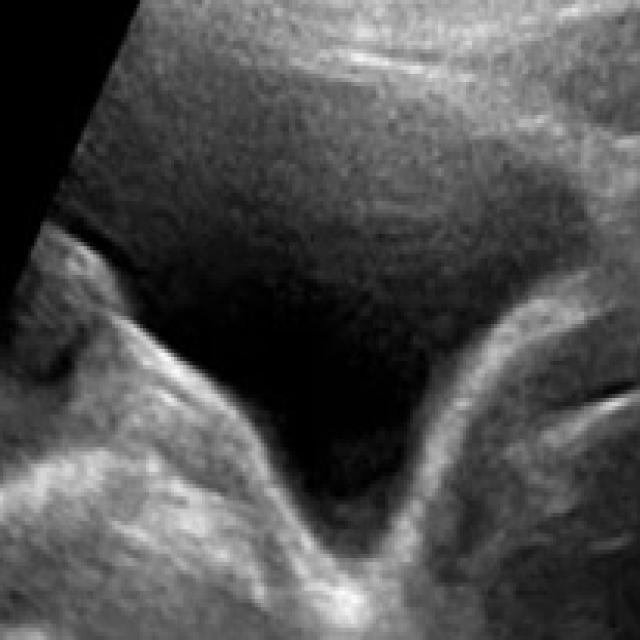bladder: (39, 17, 626, 596)
